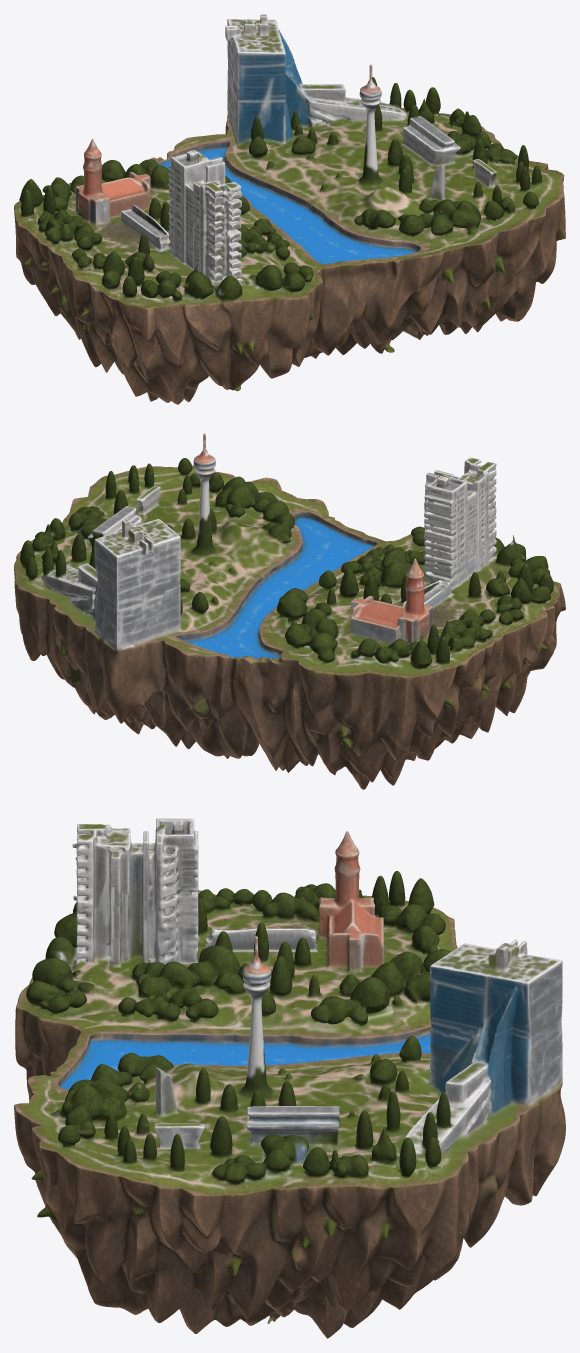
Rendered from FloatingCity.glb.
3 renders of one model, top to bottom at view 1: azimuth 30°, elevation 25°; view 2: azimuth 150°, elevation 25°; view 3: azimuth 270°, elevation 25°, orthographic. The views are drawn at different scales.
Bounding box in the file's own units: 1.9 × 1.1 × 1.45.
Materials: 1 (1 with a texture image).
